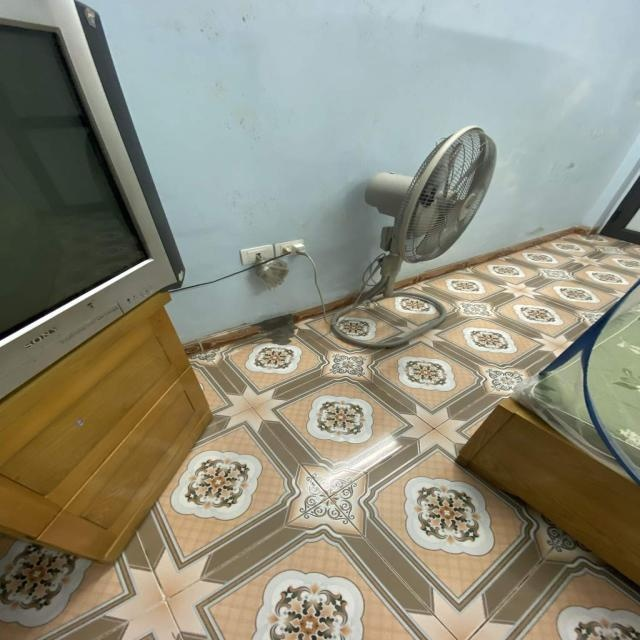outlet: (239, 245, 274, 266), (274, 239, 306, 259)
